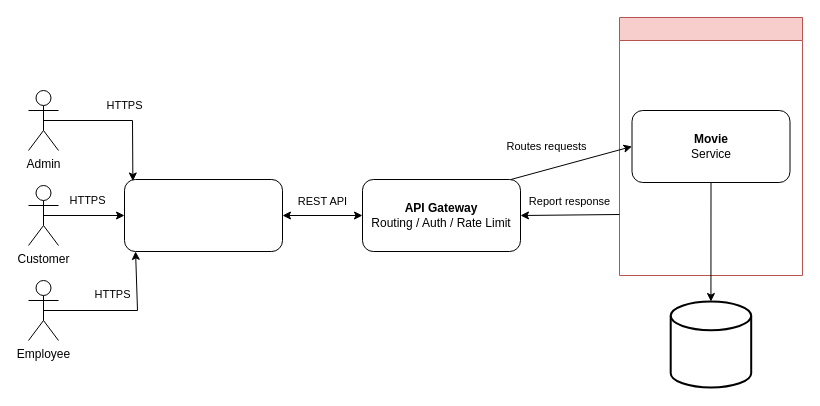
This 820x406 diagram has some shape labels left out. The box of each missing label's shape, as (x1, y1, x2, y2) in pixels:
Backend Services: (618, 16, 802, 276)
Movie DB: (669, 300, 752, 388)
React Frontend UI / Client: (124, 178, 282, 252)
